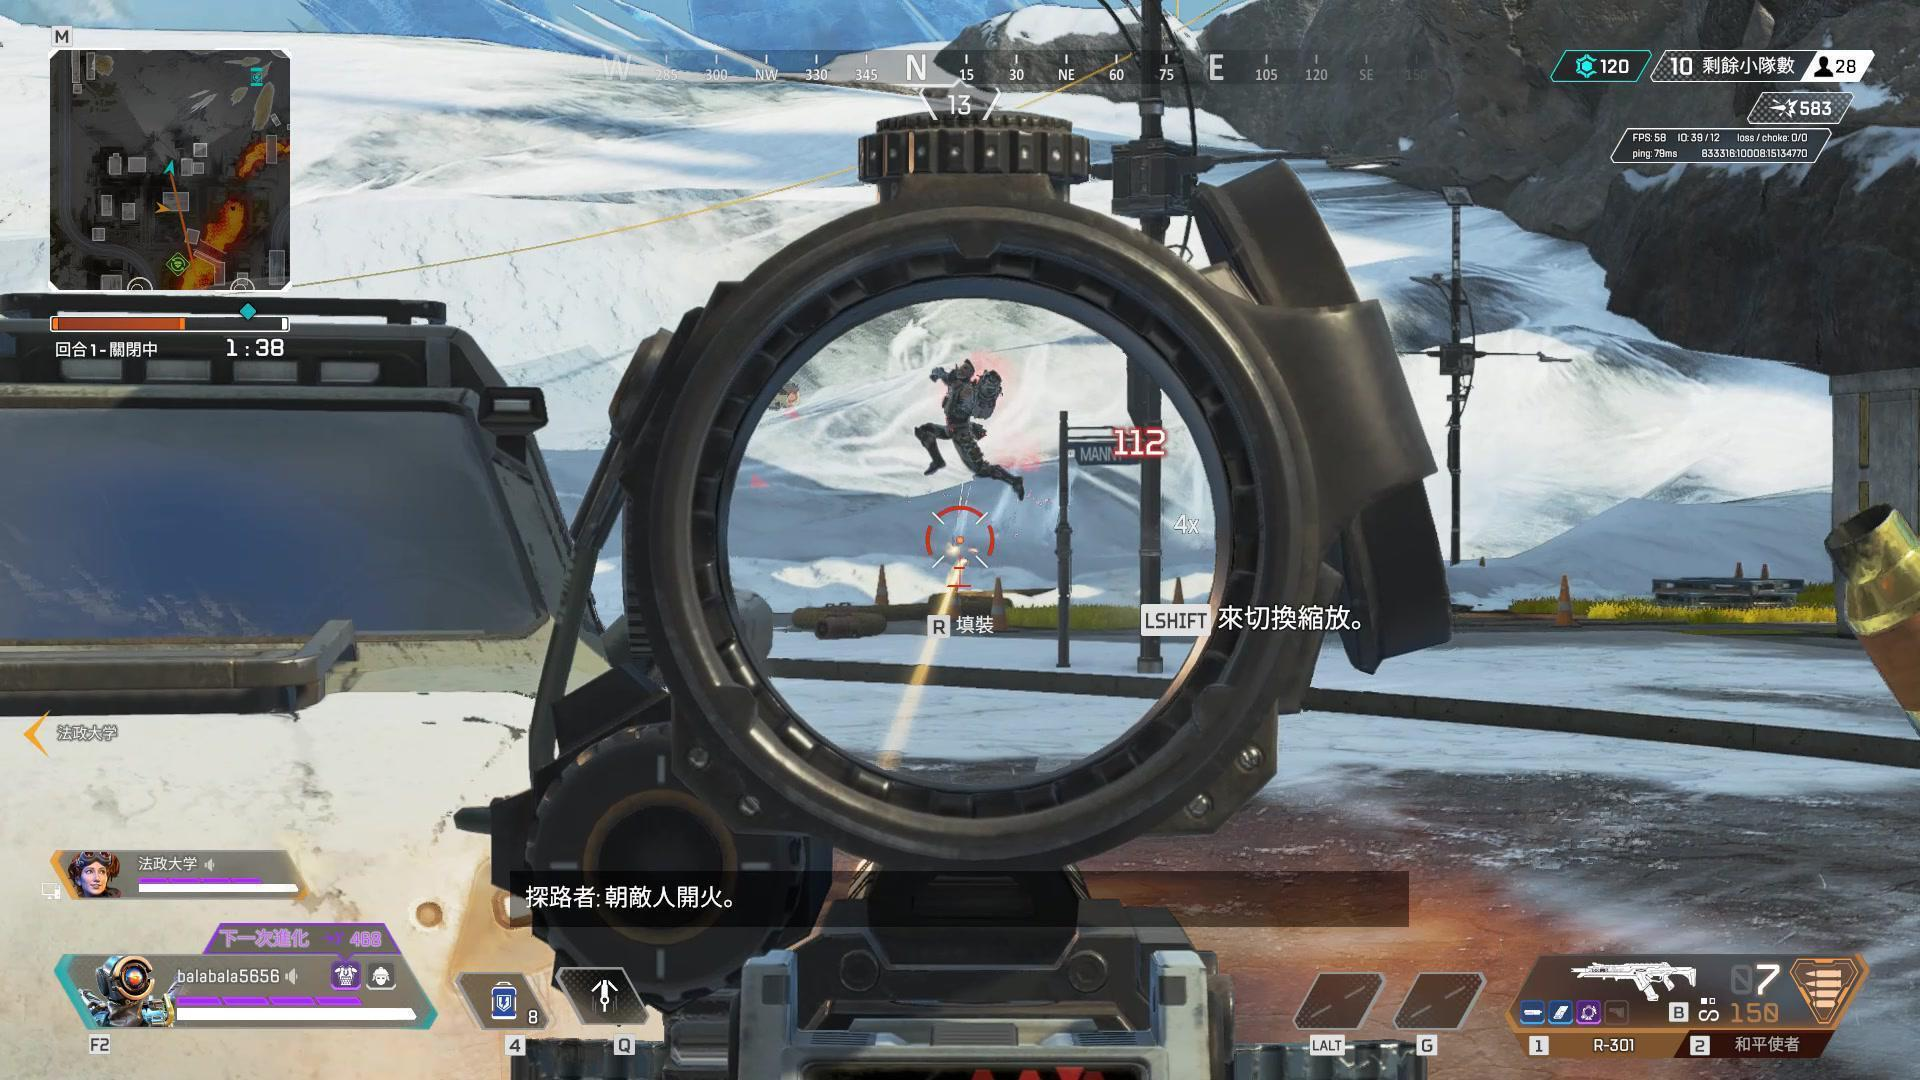avatar: (912, 360, 1005, 482)
